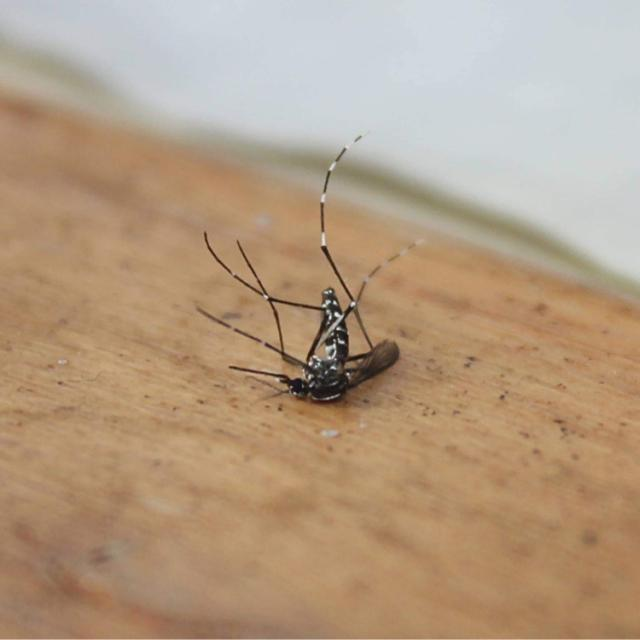albopictus: (184, 132, 424, 412)
